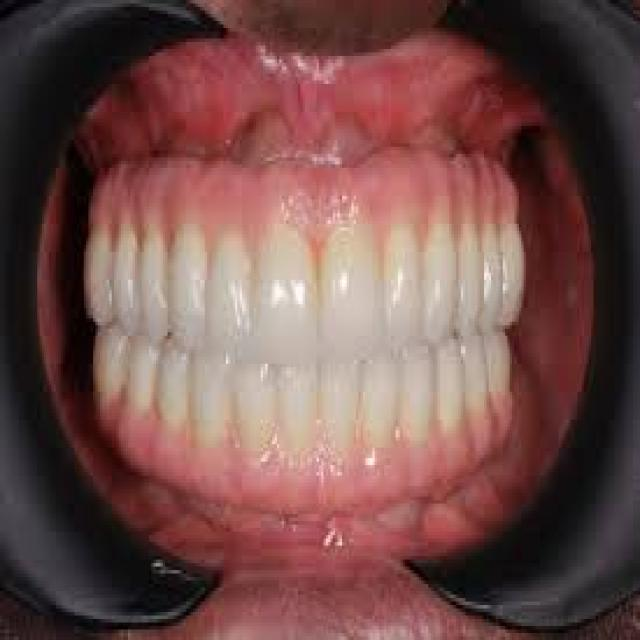tooth: (258, 231, 314, 364), (321, 238, 382, 360), (424, 234, 461, 340), (216, 238, 249, 350), (391, 231, 419, 346), (177, 238, 207, 339), (196, 360, 230, 448), (361, 367, 393, 451), (319, 371, 354, 444), (400, 360, 431, 441), (277, 378, 314, 444), (238, 374, 272, 444), (144, 245, 168, 339), (86, 241, 112, 322), (98, 332, 126, 406), (165, 356, 189, 434), (486, 227, 503, 336), (509, 224, 524, 329), (466, 231, 480, 343), (119, 248, 137, 329), (135, 350, 156, 416), (442, 357, 463, 423), (466, 350, 486, 402), (493, 353, 512, 402)
